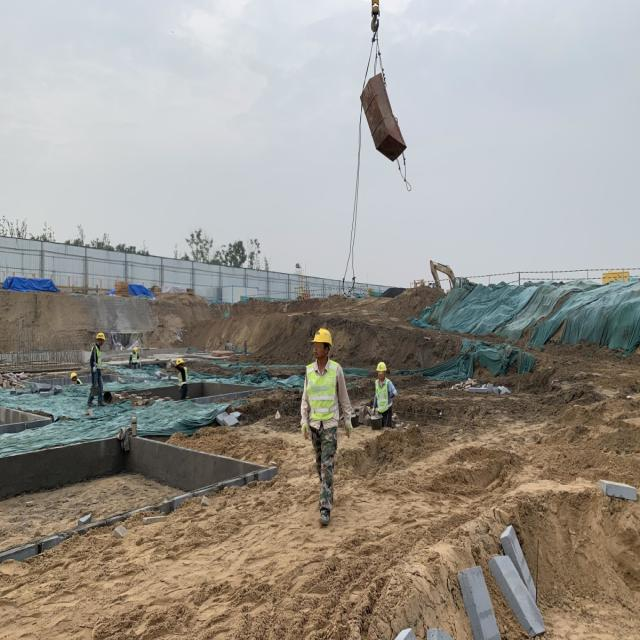excavator: (430, 261, 467, 294)
